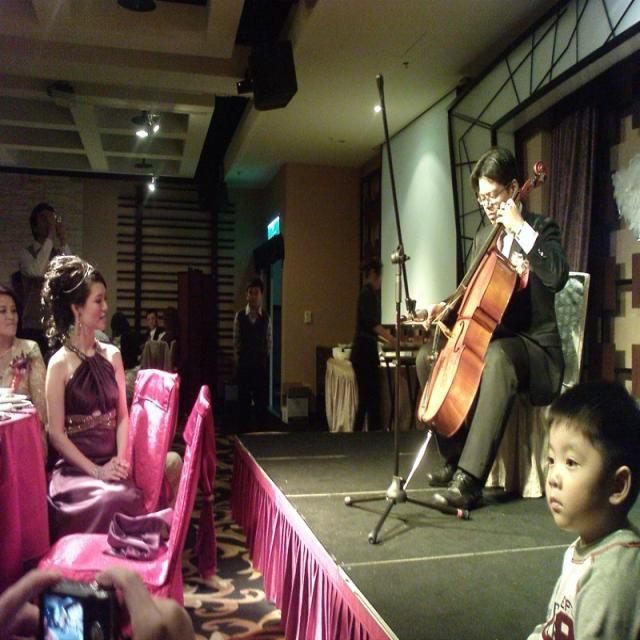cello: (415, 159, 547, 439)
